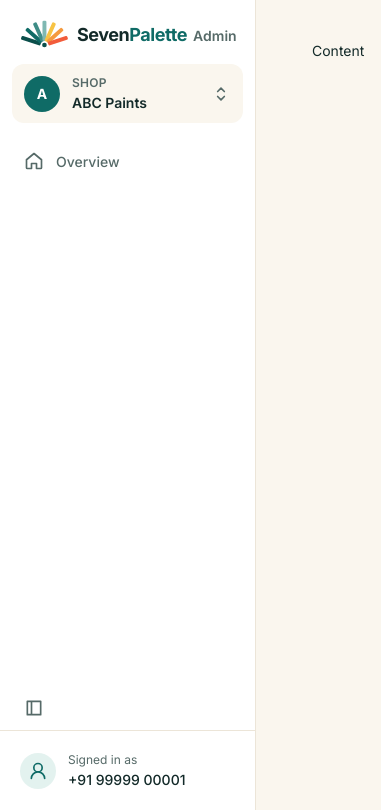
Test: AppShell › shows the shop switcher, the account menu and the navigation
Expected: the element showing "Content" is shown, [312,42,364,59]
Expected: the link "Overview" is shown, [24,151,120,171]
Click the button with aria-label "Shop: ABC Paints. Switch" at (128, 94), box [12,64,243,123]
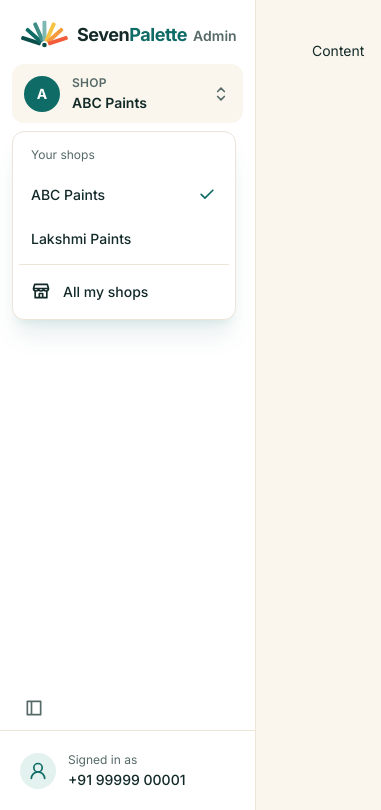
Now the menu item "All my shops" is shown, box [31,281,148,301]
Press Escape
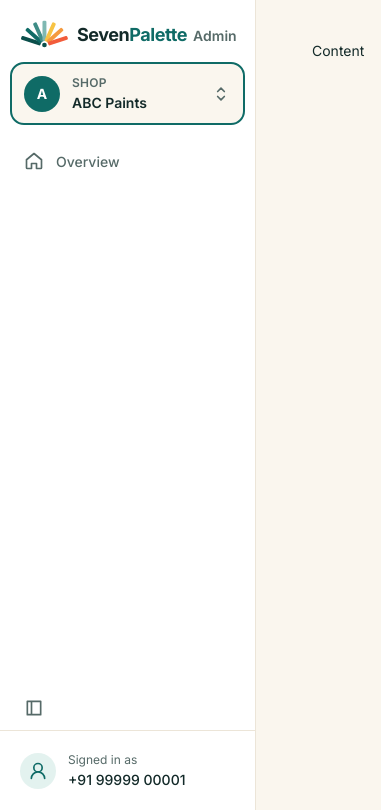
Now the menu item "Lakshmi Paints" is gone
Click the button with aria-label "Account: +91 99999 00001" at (128, 770), box [12,743,243,798]
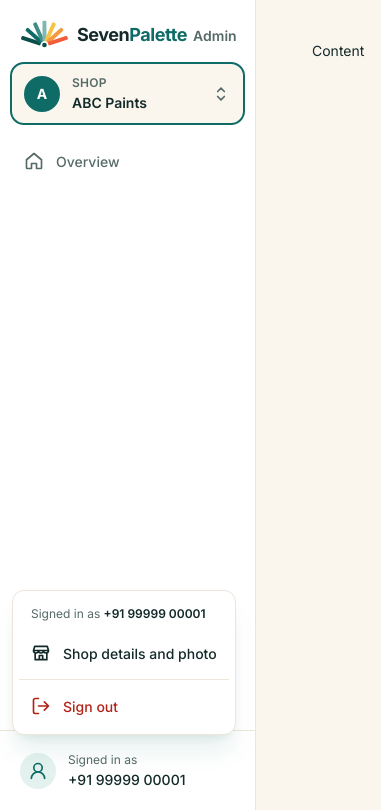
Now the menu item "Shop details and photo" is shown, box [31,643,217,663]
Now the menu item "Sign out" is shown, box [19,684,229,728]
